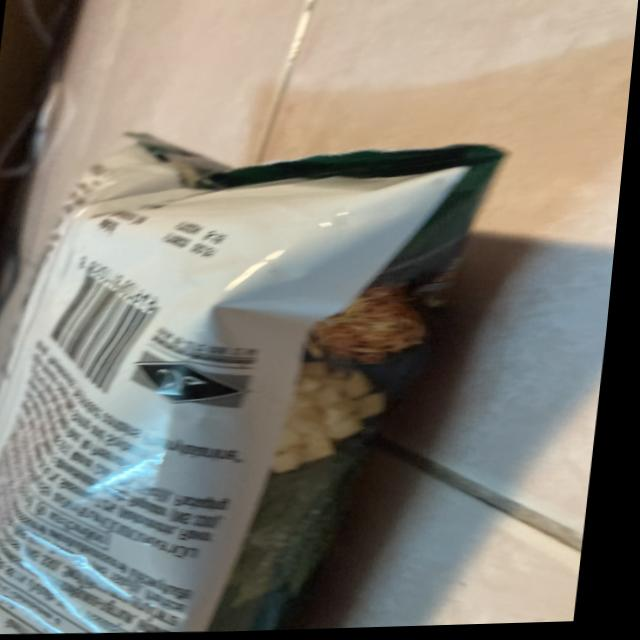Laygreen: (0, 98, 502, 639)
